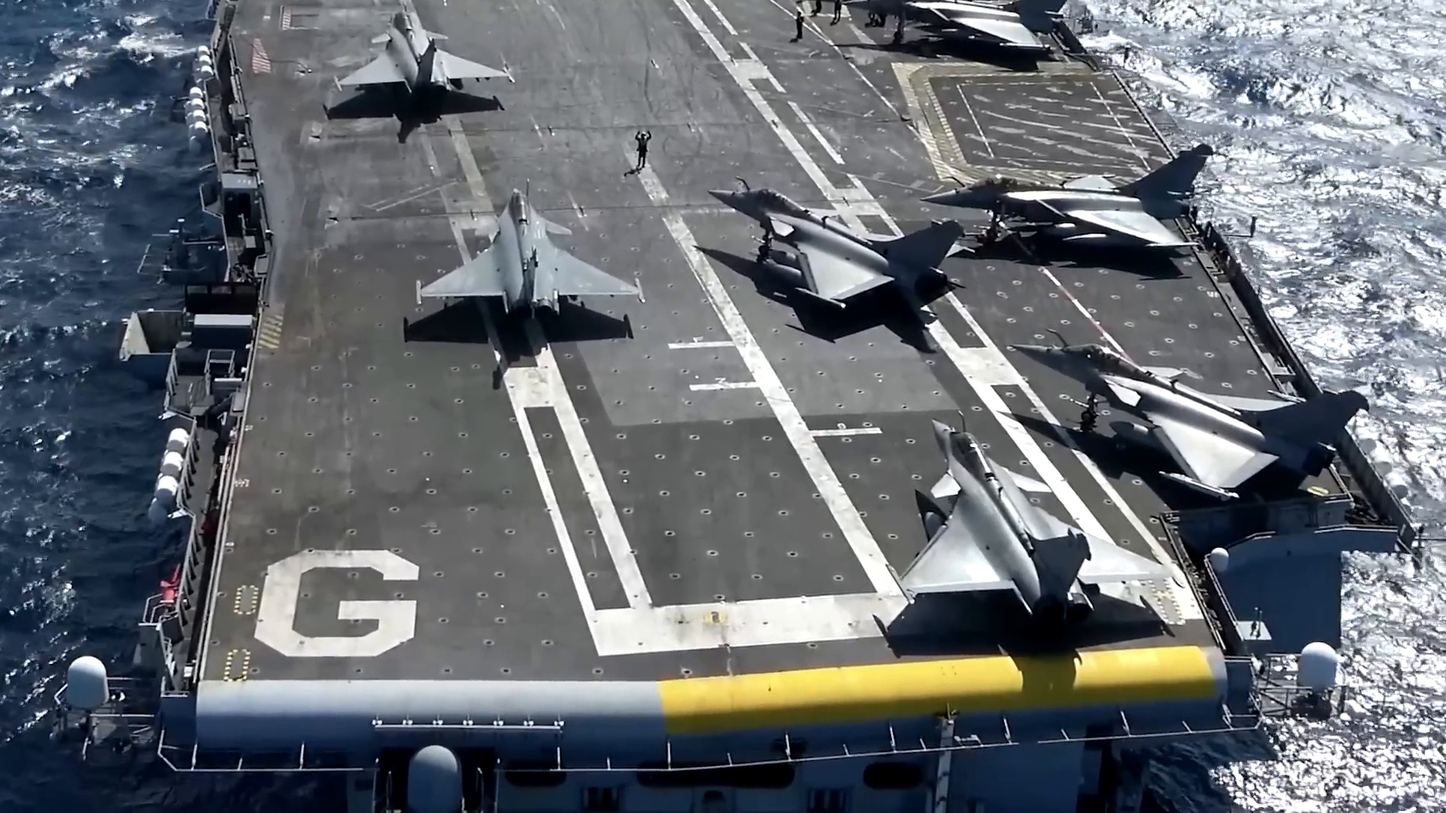Rafale: (1002, 341, 1369, 499), (898, 419, 1174, 624), (708, 179, 963, 333), (920, 142, 1215, 249), (415, 187, 647, 323), (333, 6, 512, 97)
